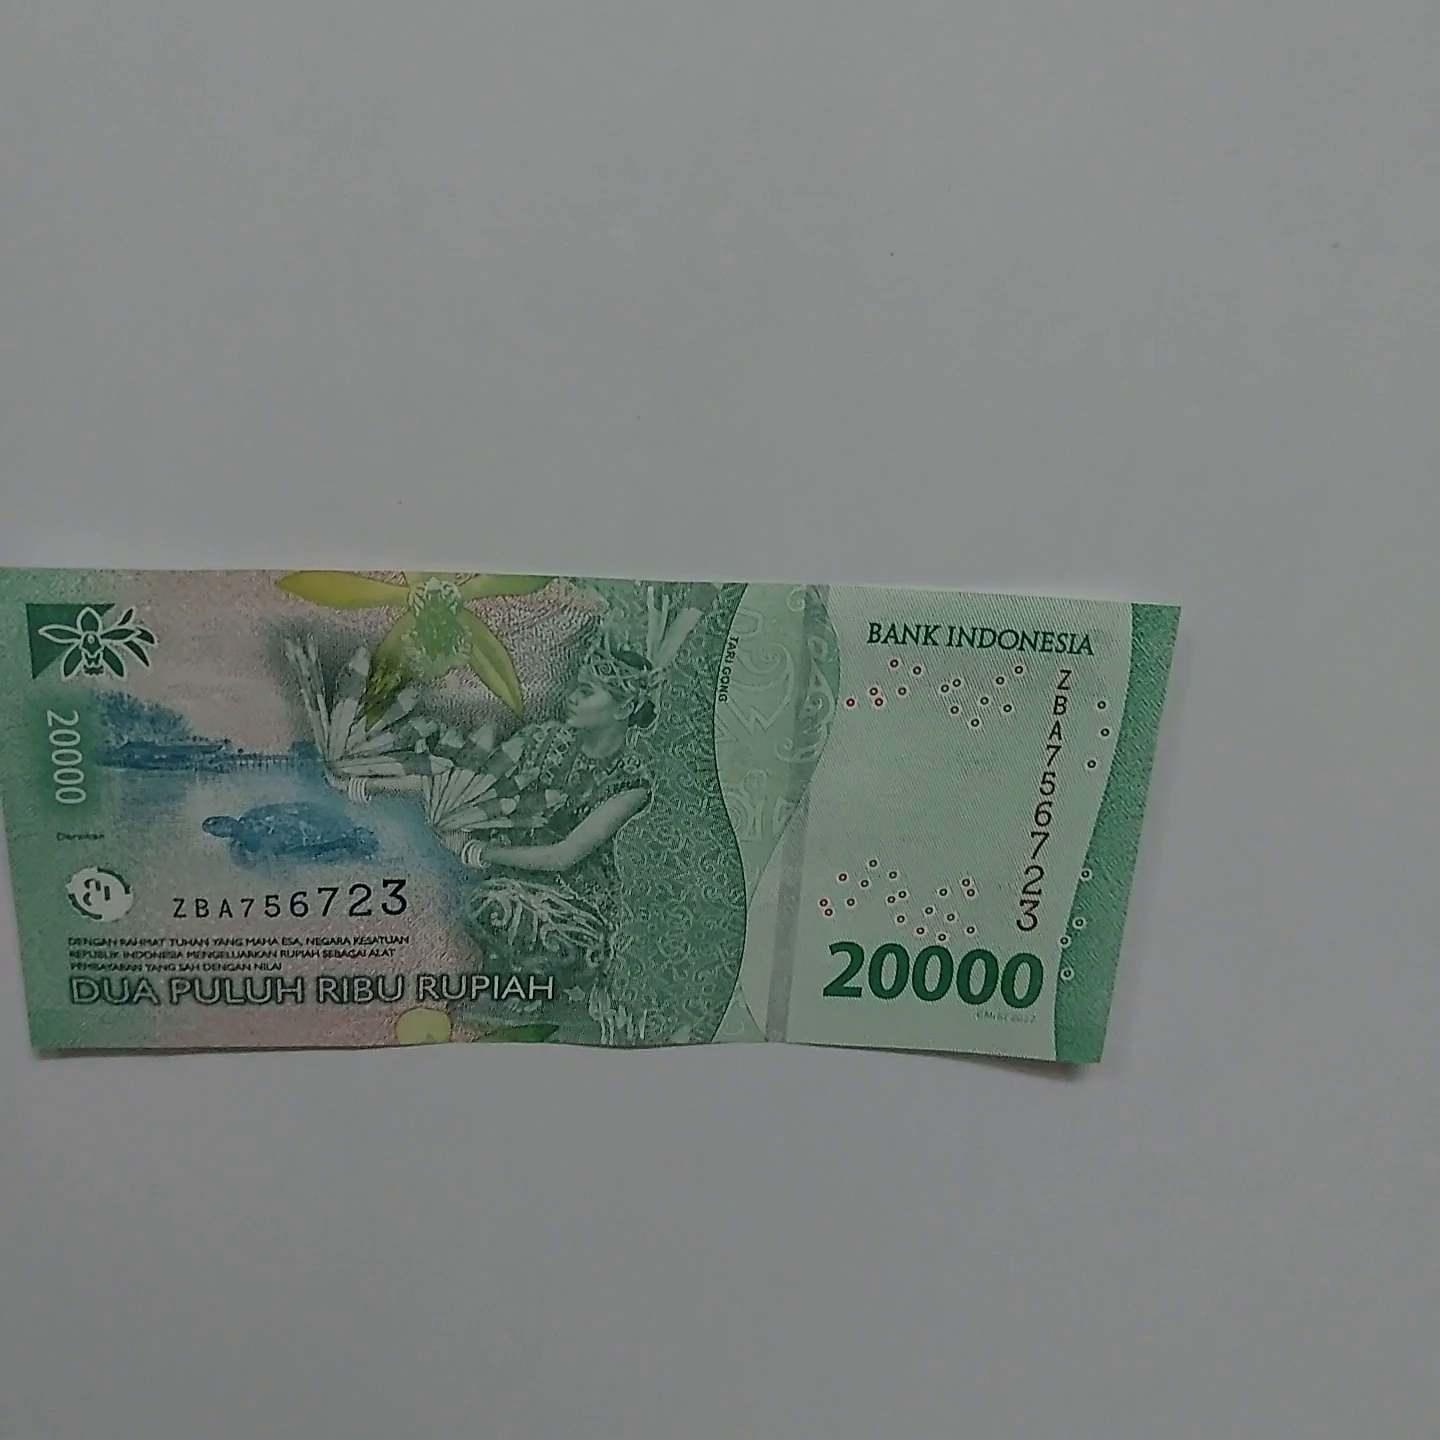20k: (0, 568, 1130, 1075)
